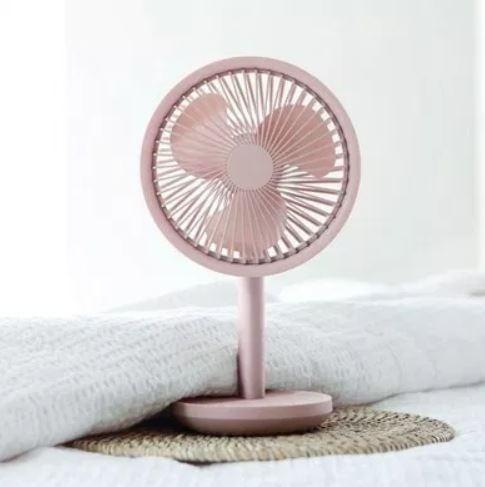fan: (140, 48, 376, 428)
